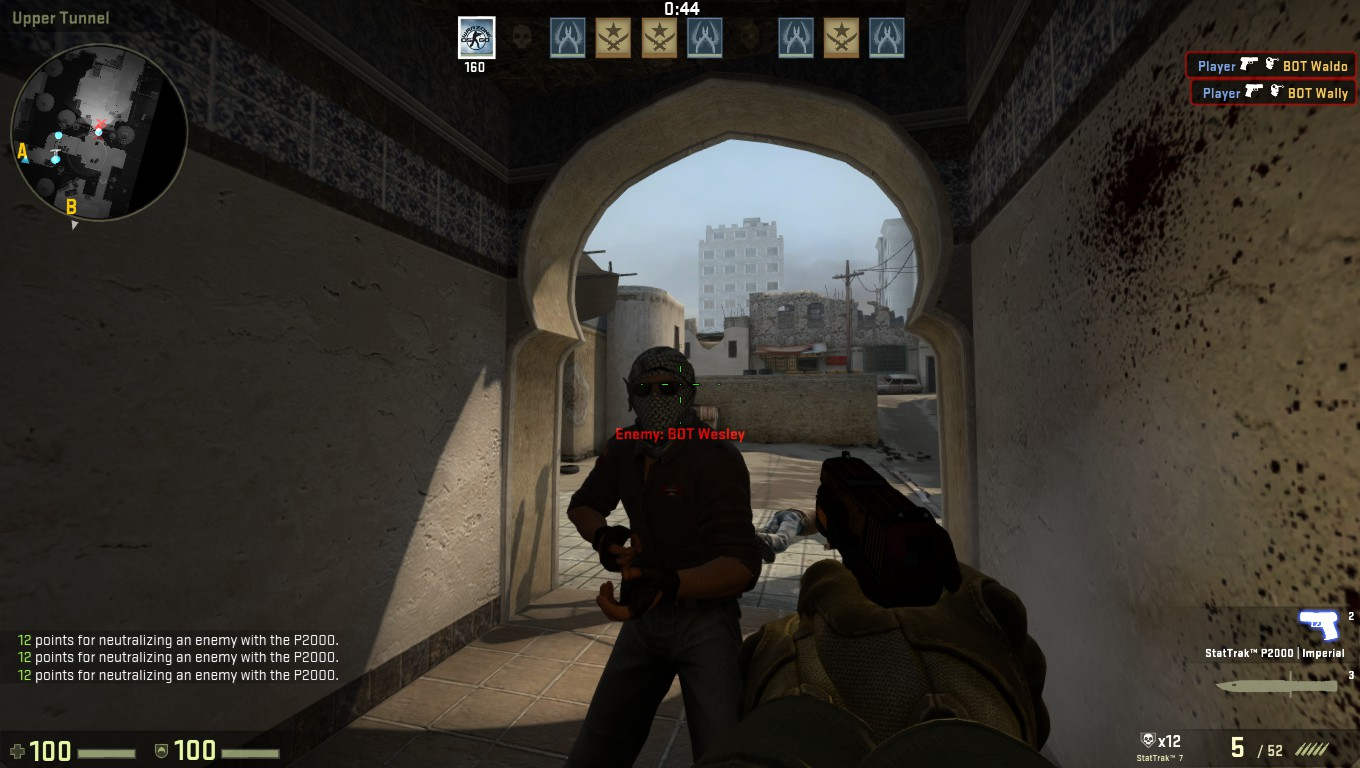t: (574, 342, 747, 768)
th: (614, 336, 710, 448)
